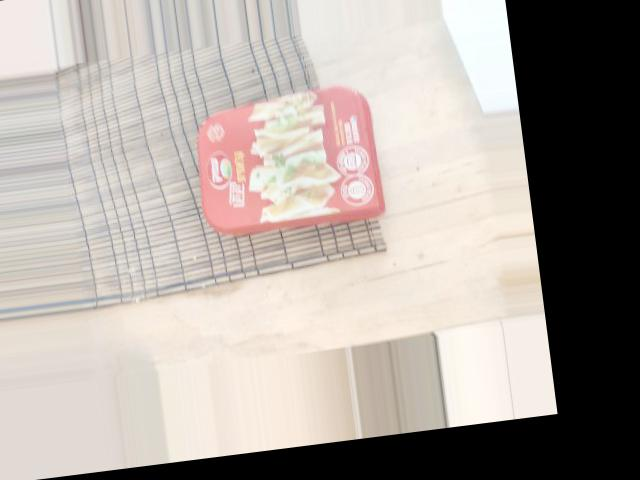cheese: (97, 46, 242, 255)
